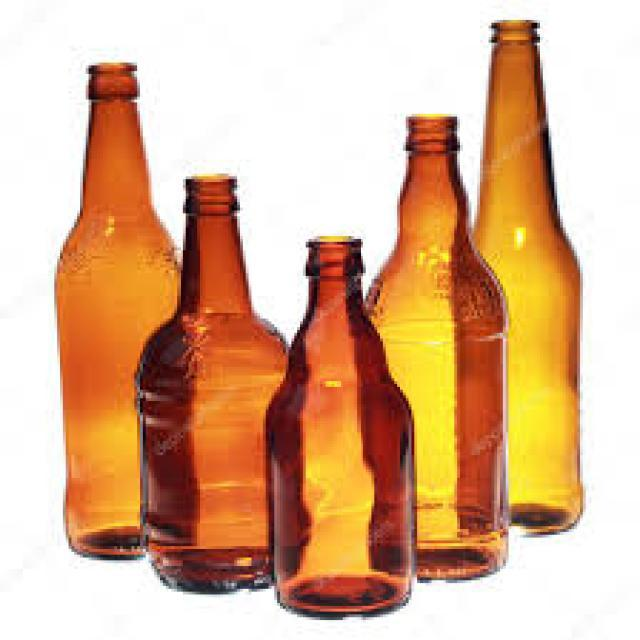Glass: (47, 61, 199, 562), (138, 174, 312, 594), (362, 112, 510, 584), (452, 17, 584, 542), (264, 236, 414, 618)
